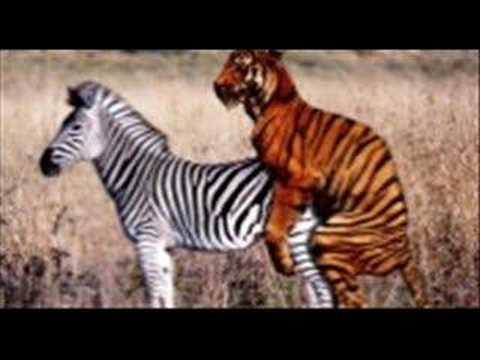tiger: (211, 47, 438, 308)
zebra: (35, 76, 343, 305)
